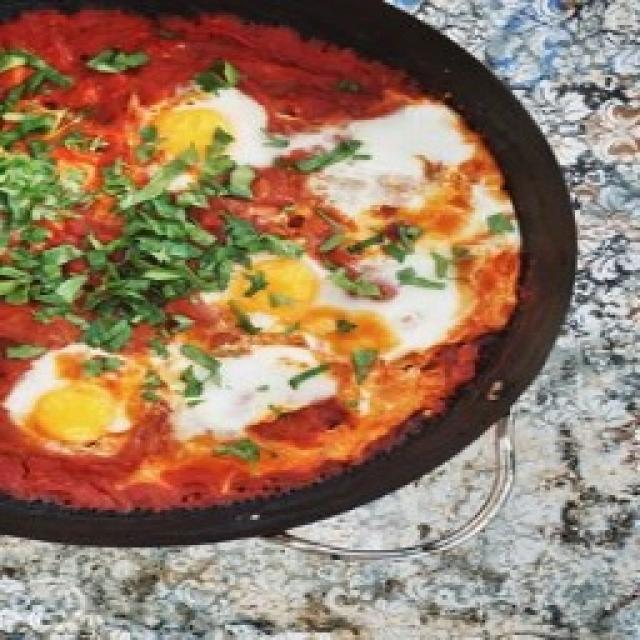Chakchouka: (0, 0, 538, 542)
